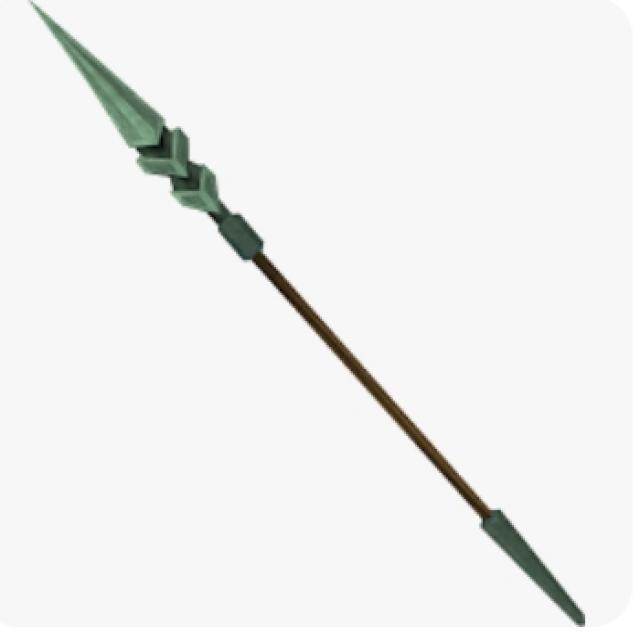spear: (15, 1, 602, 632)
